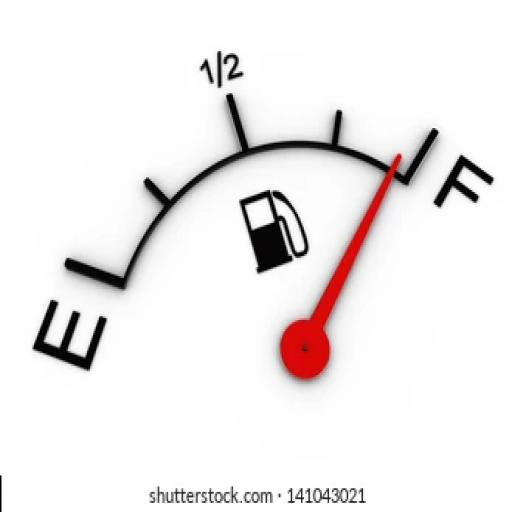empty: (32, 297, 110, 374)
fuel_icon: (235, 187, 311, 275)
full: (430, 153, 496, 212)
guage_area: (24, 46, 502, 408)
needle_center: (278, 306, 333, 388)
needle_tip: (378, 147, 406, 189)
